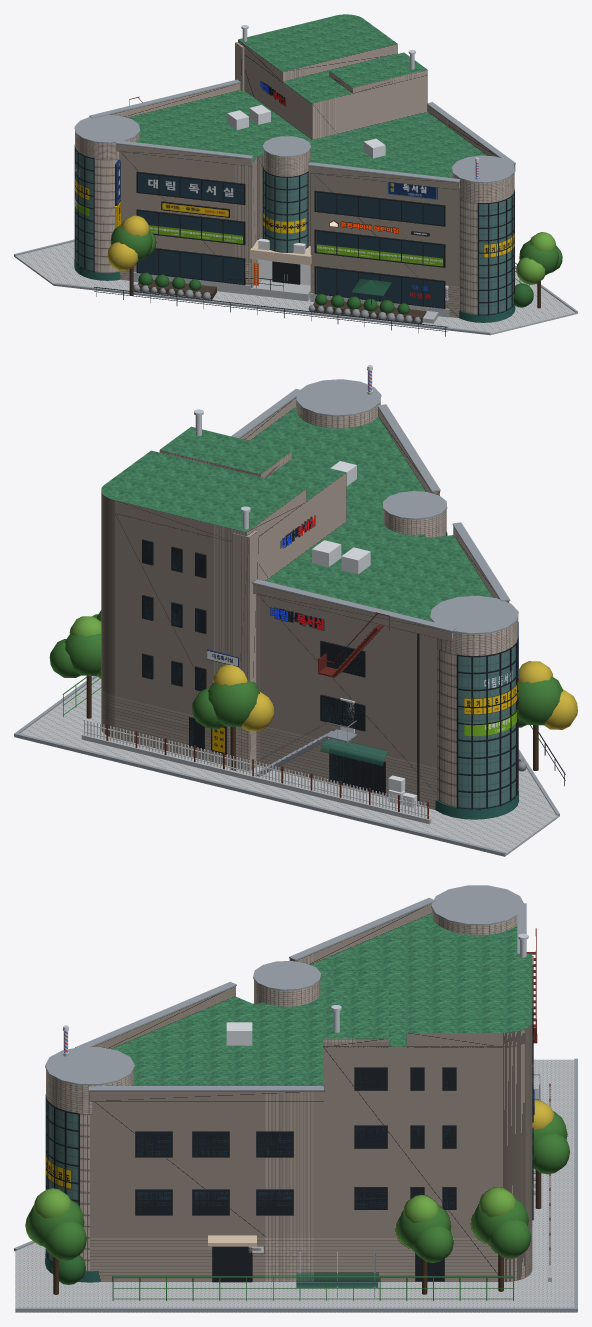
Rendered from place_대림독서실.glb.
3 views of the same model, one above another, from view 1: azimuth 30°, elevation 25°; view 2: azimuth 150°, elevation 25°; view 3: azimuth 270°, elevation 25° (orthographic). The views are drawn at different scales.
Parts seen in each view (by area): view 1: Main_3F_WedgeExtrusion, Merged_SW_WinGlass, NE_4F_RoundedCornerBlock, Three_RoundedGlass_Towers, NE_SplitTop_NorthWing, Flat_Sidewalk_Slab, Merged_SW_WinFrames, Merged_Main_Parapet, South_CornerTower_CurvedGlass, SW_Facade_Signage, Merged_Main_Coping, Central_StairTower_CurvedGlass (+32 smaller); view 2: Main_3F_WedgeExtrusion, NE_4F_RoundedCornerBlock, Flat_Sidewalk_Slab, NE_SplitTop_NorthWing, Three_RoundedGlass_Towers, NW_ProwTower_CurvedGlass, Merged_Tree_LeafGreen, Merged_NE_ChimneyShaft, NE_SplitTop_SouthCore, Merged_Main_Coping, Merged_Main_Parapet, Merged_North_PicketWhite (+24 smaller); view 3: Main_3F_WedgeExtrusion, NE_4F_RoundedCornerBlock, Flat_Sidewalk_Slab, NE_SplitTop_NorthWing, Merged_Tree_LeafGreen, Merged_East_WinFrames, Merged_Main_Parapet, Merged_NE_WinFrames, Merged_Main_Coping, Merged_Env_Curbs, NE_SplitTop_SouthCore, Merged_NW_ProwTower_Coping (+18 smaller).
Boxes of the visible parts, x1,y1,x2,y2 form: Main_3F_WedgeExtrusion: (119,90,486,317); Merged_SW_WinGlass: (138,173,443,307); NE_4F_RoundedCornerBlock: (244,53,427,139); Three_RoundedGlass_Towers: (80,155,510,314); NE_SplitTop_NorthWing: (238,14,397,81); Flat_Sidewalk_Slab: (14,241,577,335); Merged_SW_WinFrames: (136,171,445,308); Merged_Main_Parapet: (110,83,515,189); South_CornerTower_CurvedGlass: (479,194,513,314); SW_Facade_Signage: (148,179,442,299); Merged_Main_Coping: (89,79,515,182); Central_StairTower_CurvedGlass: (264,170,307,251); Main_3F_WedgeExtrusion: (250,407,492,809); NE_4F_RoundedCornerBlock: (101,459,346,766); Flat_Sidewalk_Slab: (14,677,558,856); NE_SplitTop_NorthWing: (101,450,306,541); Three_RoundedGlass_Towers: (437,647,514,807); NW_ProwTower_CurvedGlass: (458,645,515,808); Merged_Tree_LeafGreen: (49,610,562,728); Merged_NE_ChimneyShaft: (232,529,258,771); NE_SplitTop_SouthCore: (159,426,291,478); Merged_Main_Coping: (231,388,510,632); Merged_Main_Parapet: (240,397,509,641); Merged_North_PicketWhite: (84,719,428,817); Main_3F_WedgeExtrusion: (90,913,517,1281); NE_4F_RoundedCornerBlock: (323,967,532,1281); Flat_Sidewalk_Slab: (15,1059,577,1312); NE_SplitTop_NorthWing: (406,953,532,1047); Merged_Tree_LeafGreen: (27,1111,569,1262); Merged_East_WinFrames: (135,1131,293,1215); Merged_Main_Parapet: (89,903,432,1101); Merged_NE_WinFrames: (354,1008,533,1281); Merged_Main_Coping: (75,898,526,1091); Merged_Env_Curbs: (14,1058,577,1311); NE_SplitTop_SouthCore: (323,987,388,1047); Merged_NW_ProwTower_Coping: (431,885,523,925).
Bounding box in the file's own units: 33.43 × 16.86 × 31.69.
56 materials, 25 textured.
